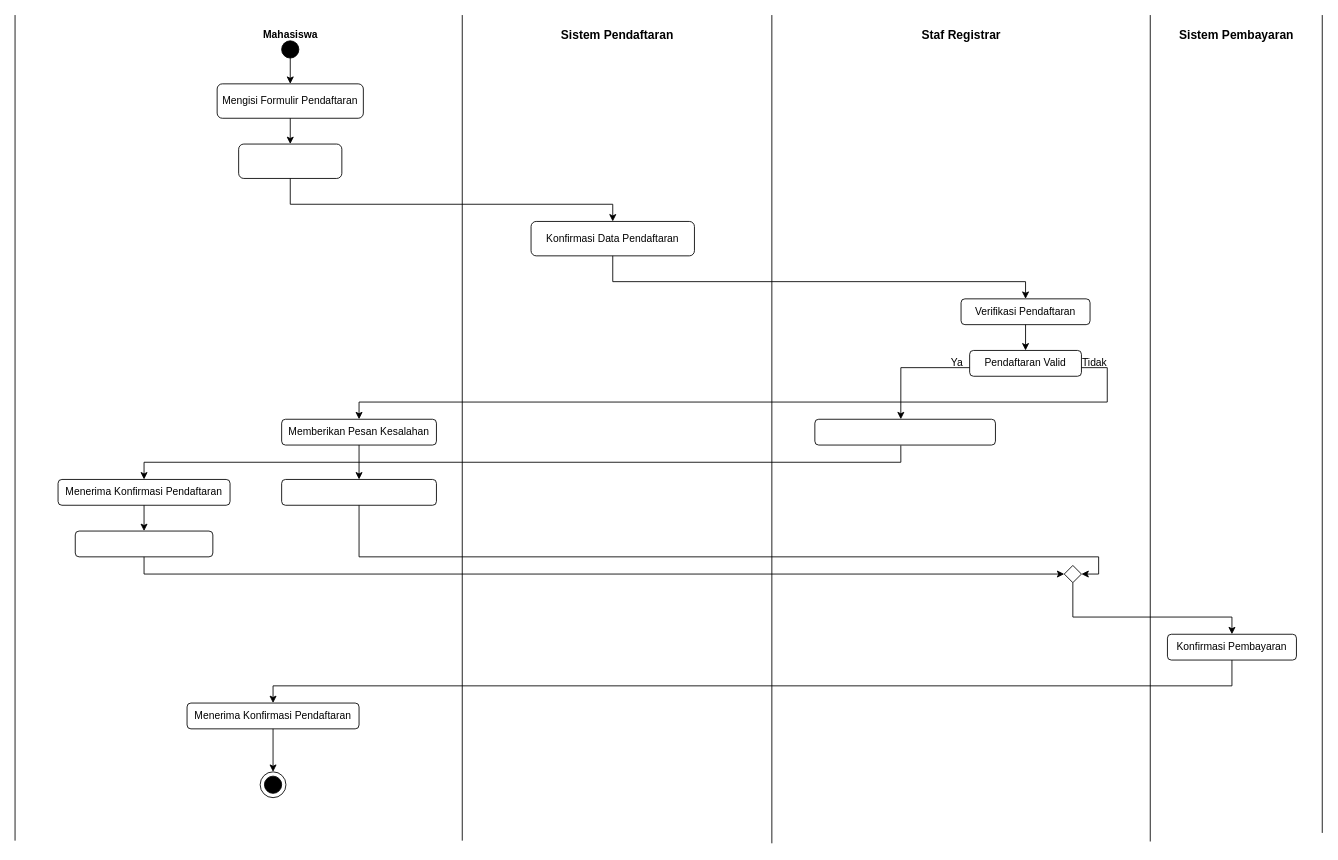
Image size: 1338x860. Some labels were removed from this diagram. Each missing label, with the centre of its shape:
Melakukan Pembayaran: [143,543]
Memberikan Konfirmasi Pendaftaran: [904,431]
Menerima Pesan Kesalahan: [358,492]
Submit Pendaftaran: [290,160]
